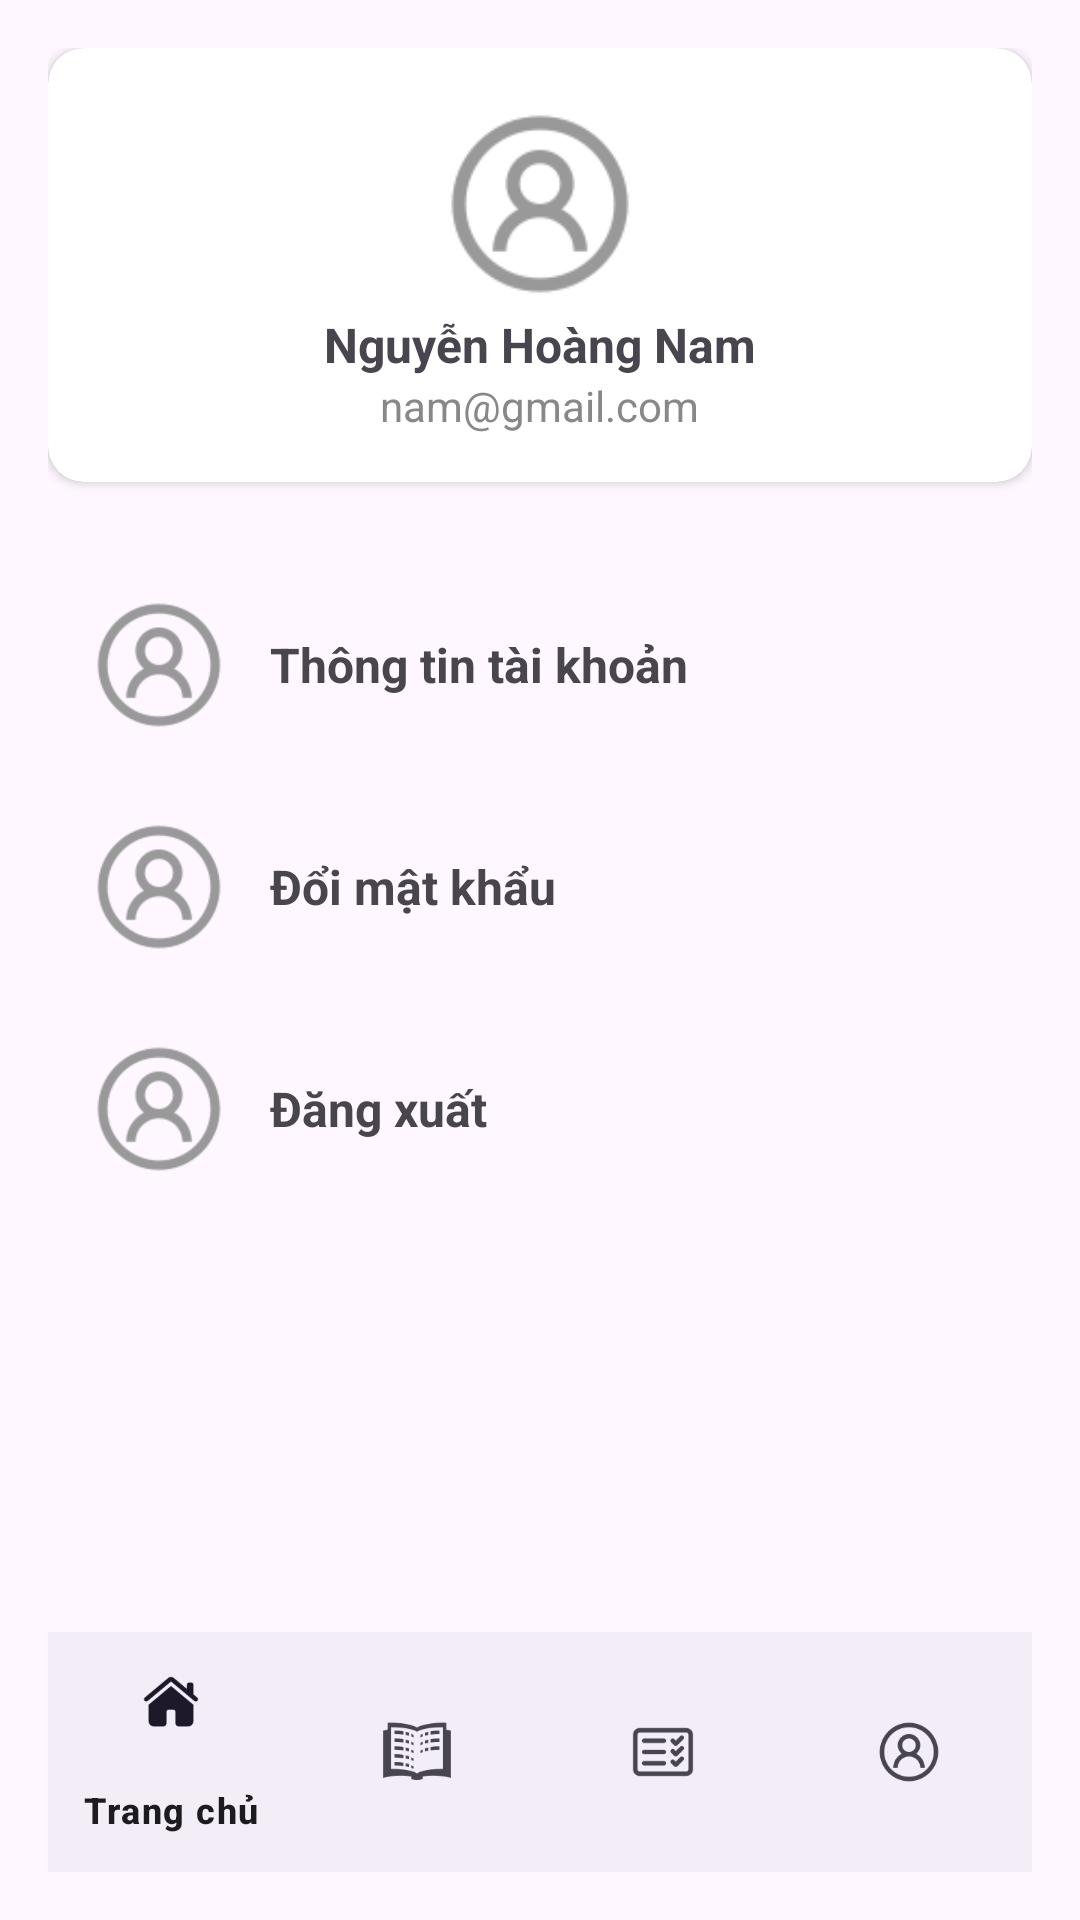

Icons on this 1080×1920 Android screen, each with its box as rect(x1, y1, x2, y2):
Avatar: rect(451, 115, 629, 293)
